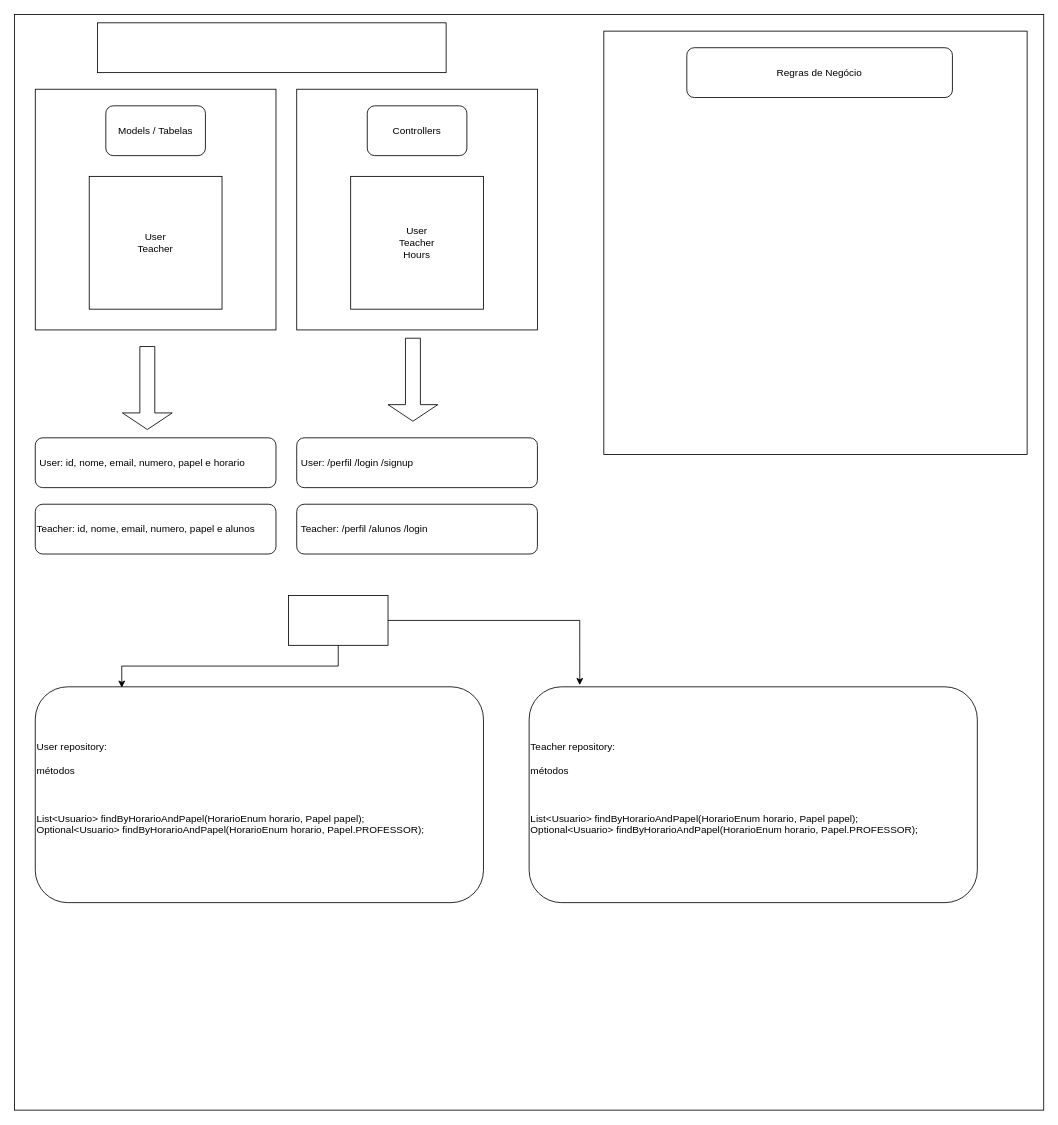
Image size: 1058x1125. Some labels were removed from this diagram. Here are the shapes that lost their labels. From the top down, the centre of each, then its label:
At (271,47): "AAJJ Backend".
At (338,620): "Repository".
